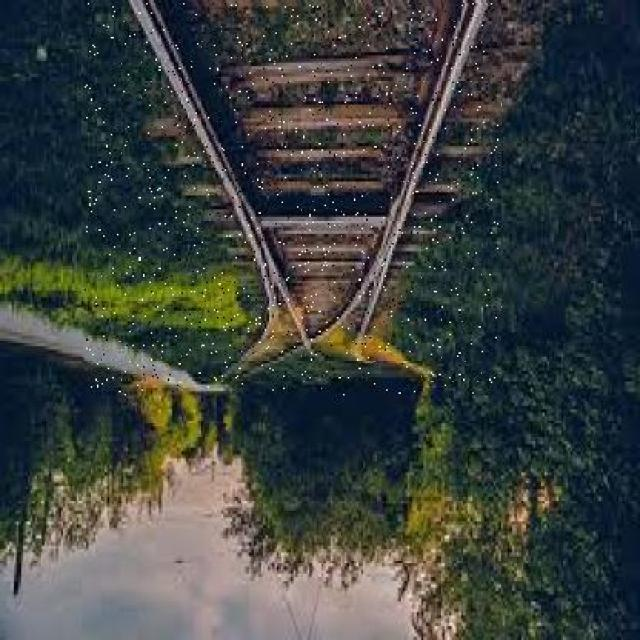rail: (86, 4, 502, 396)
